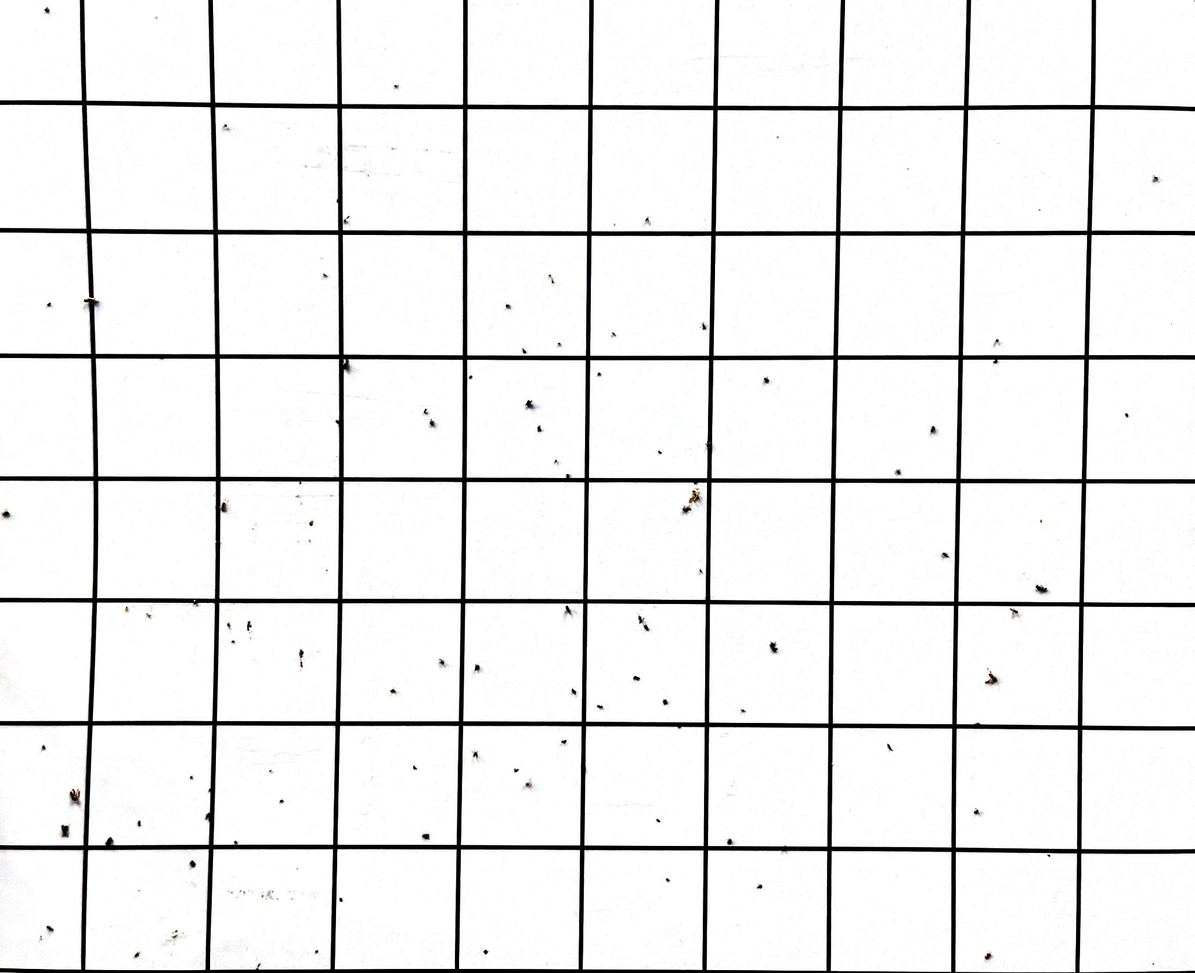test: (68, 790, 84, 806), (82, 296, 100, 310), (688, 489, 702, 505), (985, 671, 998, 684), (58, 826, 71, 838), (298, 648, 305, 670), (768, 642, 780, 654), (1035, 583, 1048, 594), (219, 500, 230, 512), (561, 605, 574, 615), (343, 360, 353, 373), (221, 121, 232, 132), (681, 503, 691, 515), (103, 836, 114, 846), (427, 419, 437, 430), (44, 301, 56, 310), (525, 399, 535, 409), (205, 812, 214, 823), (1011, 607, 1020, 617), (700, 321, 709, 331), (519, 346, 529, 355), (569, 686, 578, 696), (438, 657, 447, 667), (1, 507, 10, 517), (343, 214, 352, 224), (548, 273, 556, 284), (929, 423, 936, 435), (144, 610, 153, 619), (971, 808, 981, 816), (1151, 175, 1159, 185), (245, 621, 253, 631), (333, 419, 343, 427), (941, 552, 950, 560), (423, 833, 432, 841), (983, 952, 992, 960), (993, 339, 1002, 347), (504, 301, 512, 310), (696, 568, 705, 576), (191, 599, 200, 607), (632, 674, 642, 681), (473, 662, 480, 672), (308, 519, 315, 529), (420, 408, 430, 415), (190, 860, 198, 868), (596, 703, 604, 711), (225, 622, 233, 630), (45, 926, 54, 933), (482, 947, 489, 956), (524, 782, 533, 789), (389, 689, 398, 696), (993, 357, 999, 367), (277, 798, 284, 806), (886, 744, 894, 751), (610, 331, 618, 338), (642, 625, 650, 632), (230, 638, 238, 645), (207, 786, 213, 795), (638, 614, 644, 623), (661, 698, 667, 707), (394, 81, 400, 90), (133, 951, 140, 958), (337, 896, 344, 903), (726, 839, 733, 846), (893, 469, 900, 476), (763, 377, 770, 384), (657, 449, 664, 456), (553, 458, 560, 465), (565, 473, 572, 480), (123, 606, 130, 613), (322, 273, 329, 280), (45, 8, 52, 15), (232, 840, 240, 846), (643, 217, 651, 223), (536, 425, 542, 433), (40, 746, 47, 752), (188, 775, 195, 781), (314, 947, 320, 954), (411, 764, 417, 771), (473, 751, 480, 757), (513, 767, 520, 773), (561, 739, 568, 745), (1123, 413, 1129, 420), (555, 342, 562, 348), (467, 374, 474, 380), (654, 819, 662, 824), (136, 821, 142, 827), (665, 875, 670, 882), (756, 884, 763, 889), (1038, 517, 1043, 524), (267, 767, 272, 773), (1046, 852, 1051, 858), (595, 371, 600, 377), (740, 708, 746, 712)
